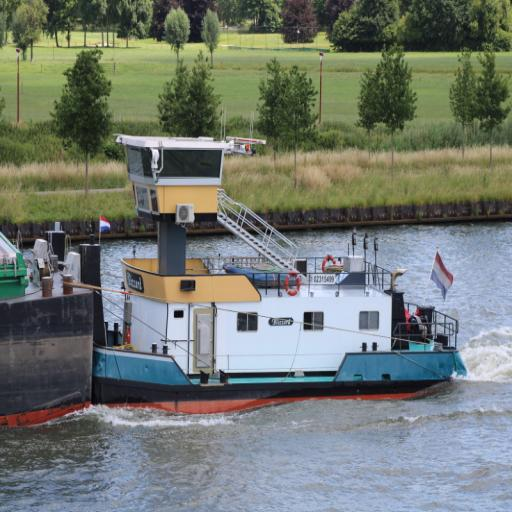tugboat: (43, 107, 471, 426)
